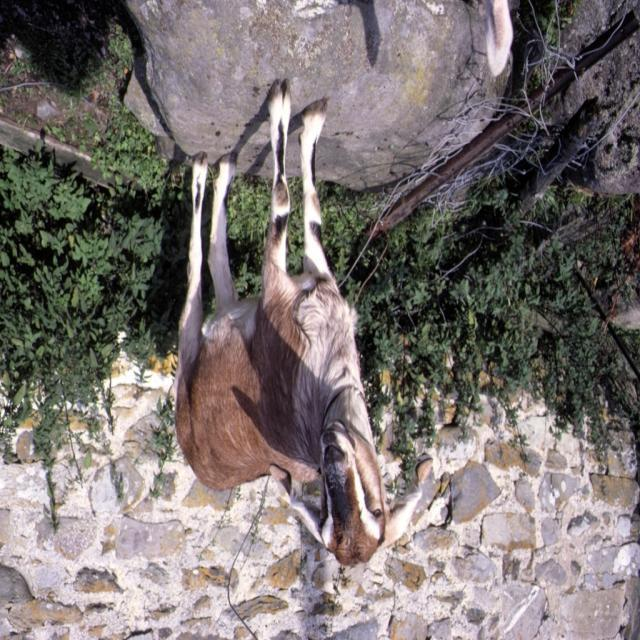Goat: (174, 79, 433, 568)
